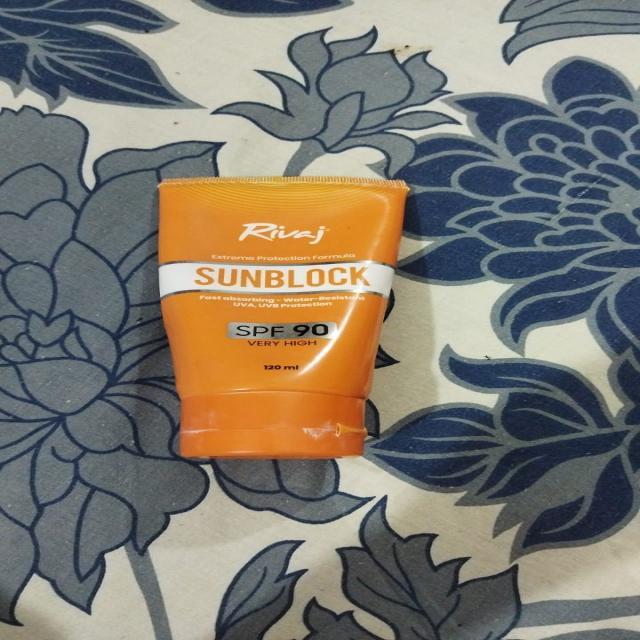sun block: (125, 147, 445, 477)
